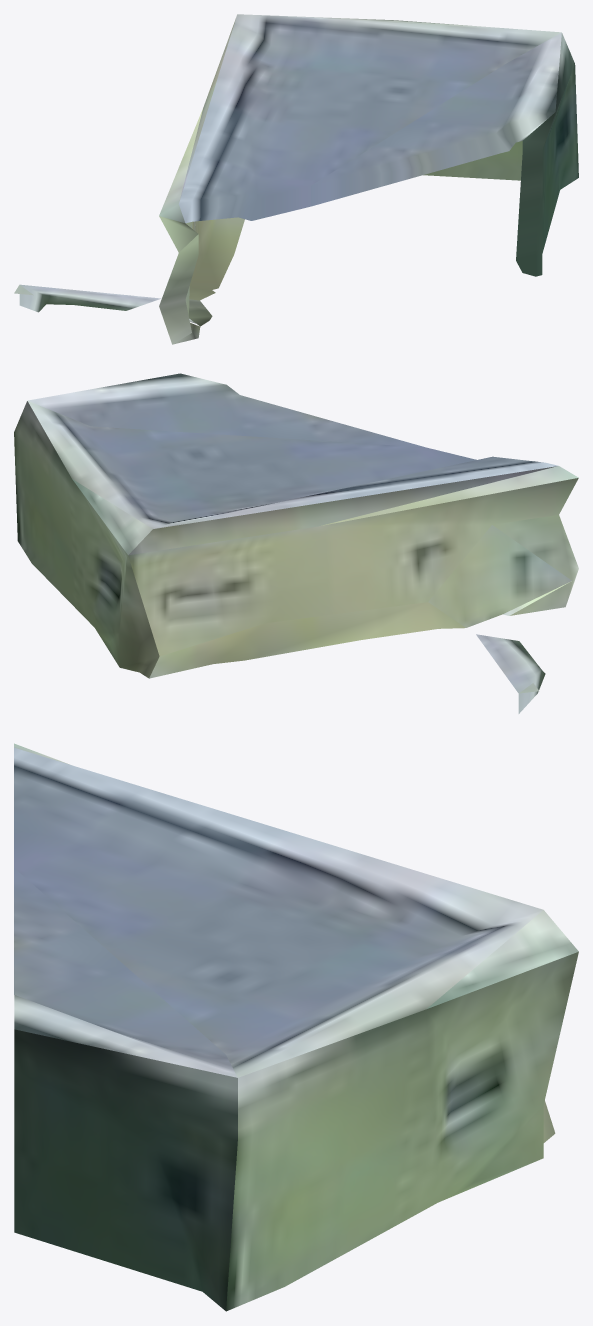
3 renders of one model, top to bottom at view 1: azimuth 30°, elevation 25°; view 2: azimuth 150°, elevation 25°; view 3: azimuth 270°, elevation 25°, orthographic. The views are drawn at different scales.
Parts seen in each view (by area): view 1: 30436272704370615672_0; view 2: 30436272704370615672_0; view 3: 30436272704370615672_0.
Part boxes in pixels (<box>): 30436272704370615672_0: <box>14,14,578,344</box>; 30436272704370615672_0: <box>14,373,578,713</box>; 30436272704370615672_0: <box>14,743,578,1311</box>.
Bounding box in the file's own units: 12.58 × 3.7 × 7.41.
Materials: 1 (1 with a texture image).
